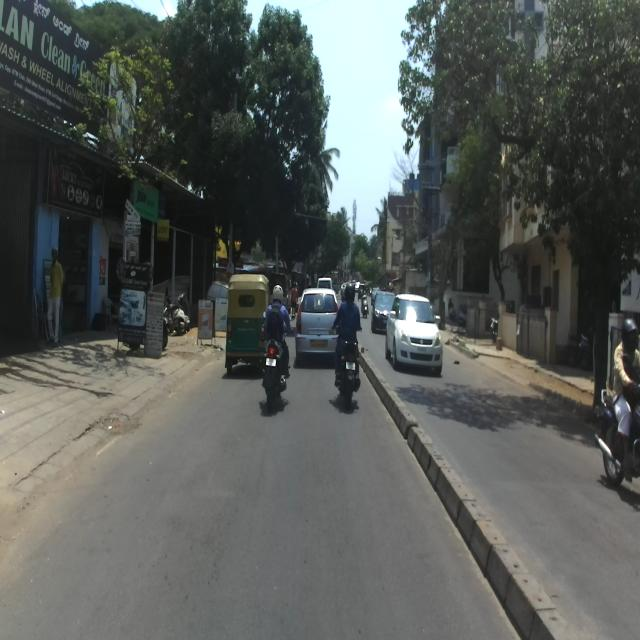auto ahead at: (227, 267, 271, 378)
car ahead at: (384, 289, 444, 374)
motorcycle ahead at: (327, 343, 365, 414)
